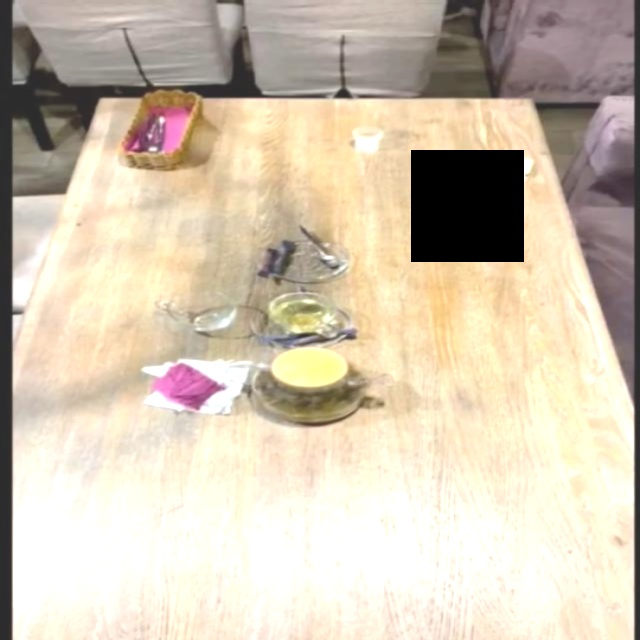tea: (251, 345, 373, 423)
